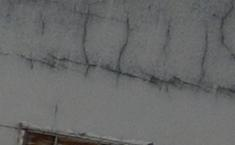fissura: (15, 0, 235, 98)
